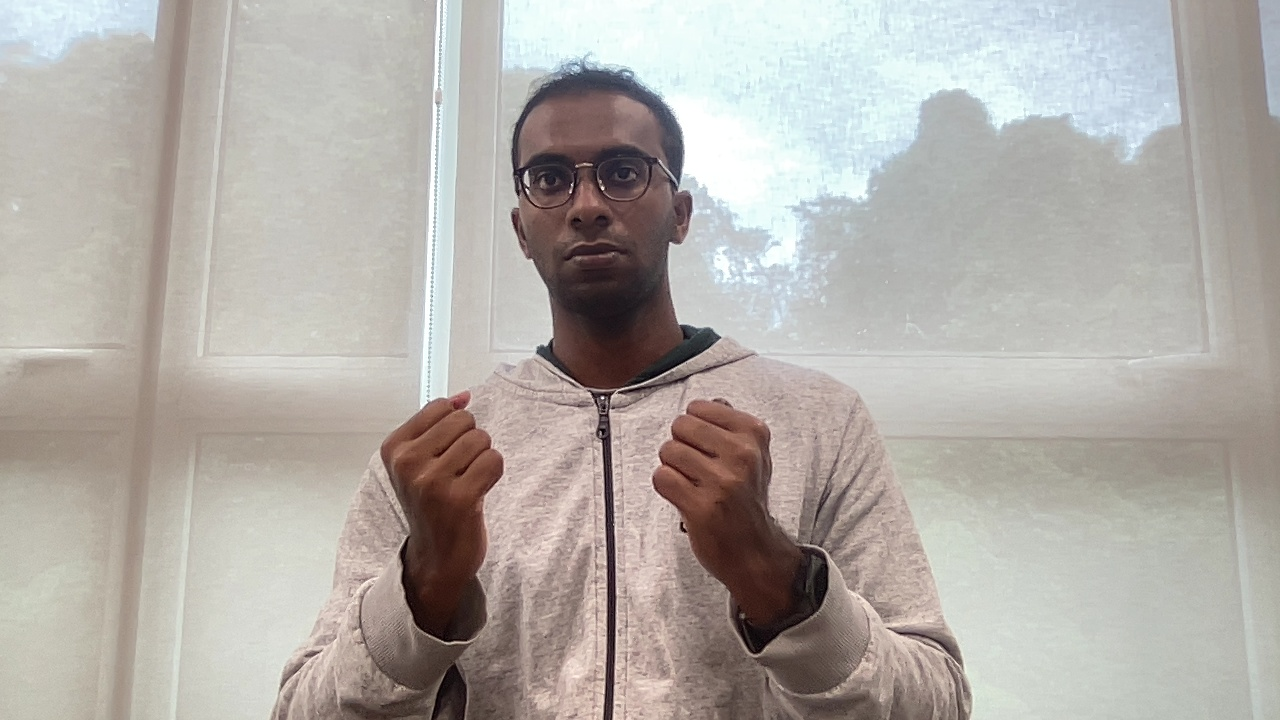finish: (378, 386, 783, 551)
